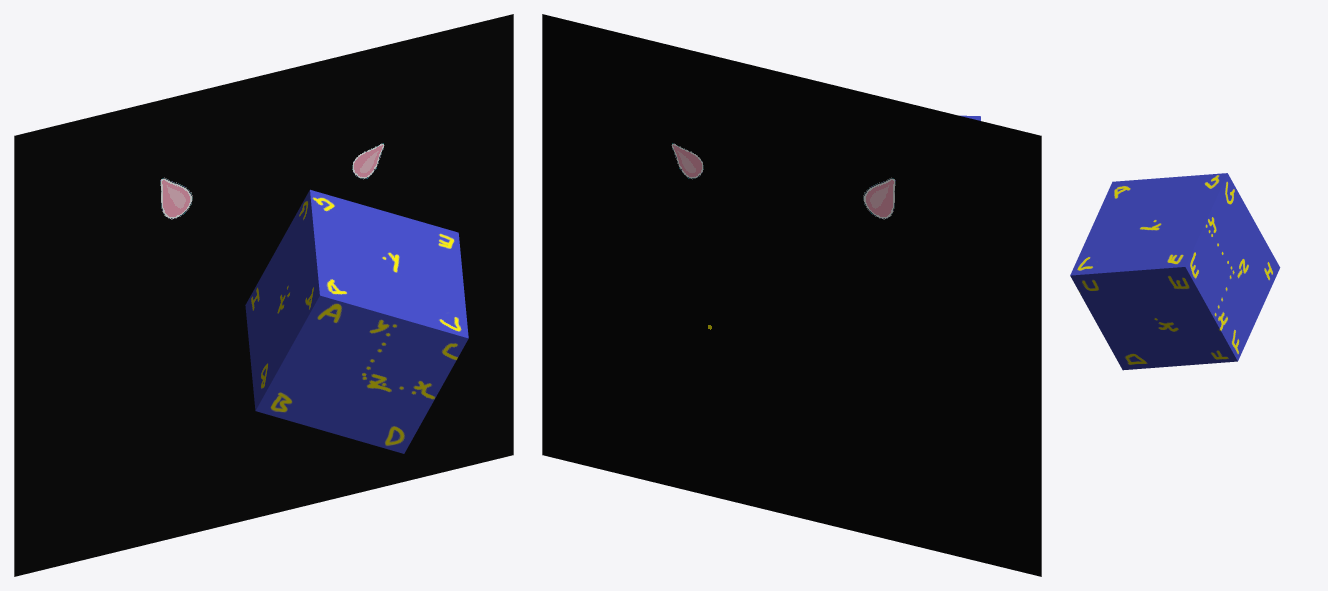
The model's file is Cubo.glb.
3 views of the same model, side by side, from view 1: azimuth 30°, elevation 25°; view 2: azimuth 150°, elevation 25°; view 3: azimuth 270°, elevation 25° (orthographic). The views are drawn at different scales.
Parts seen in each view (by area): view 1: mesh_id1, mesh_id29; view 2: mesh_id1; view 3: mesh_id29.
Boxes of the visible parts, x1,y1,x2,y2 form: mesh_id1: (14,14,513,576); mesh_id29: (245,189,468,453); mesh_id1: (542,14,1041,576); mesh_id29: (1070,173,1280,370).
Size of the model in its own units: 0.71 by 0.599 by 0.365.
Materials: 2 (2 with a texture image).
